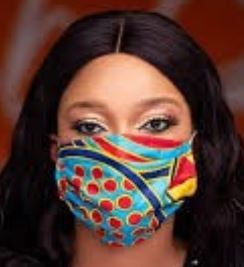with_facemask: (56, 132, 198, 242)
